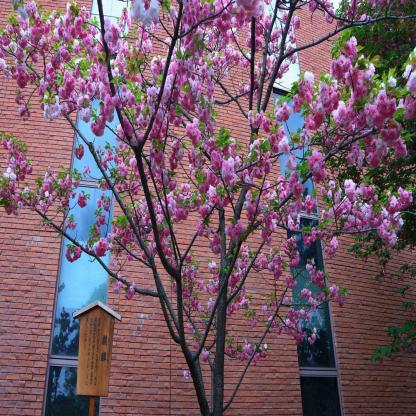YaeSakura: (0, 0, 416, 379)
